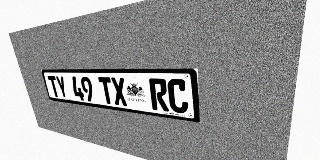4: (70, 76, 85, 101)
9: (80, 76, 95, 102)
C: (167, 79, 189, 114)
R: (149, 78, 169, 112)
T: (98, 77, 115, 105), (47, 76, 61, 98)
X: (110, 77, 128, 106)
Y: (55, 76, 69, 99)
